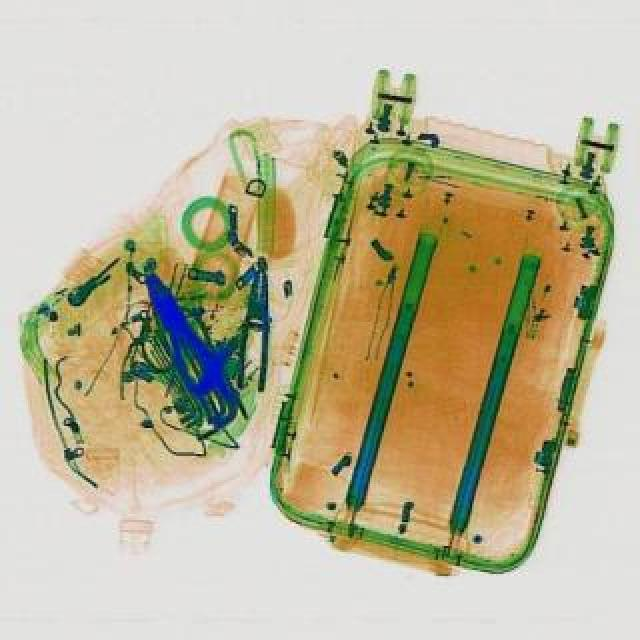wrench: (126, 262, 250, 428), (232, 266, 278, 390)
